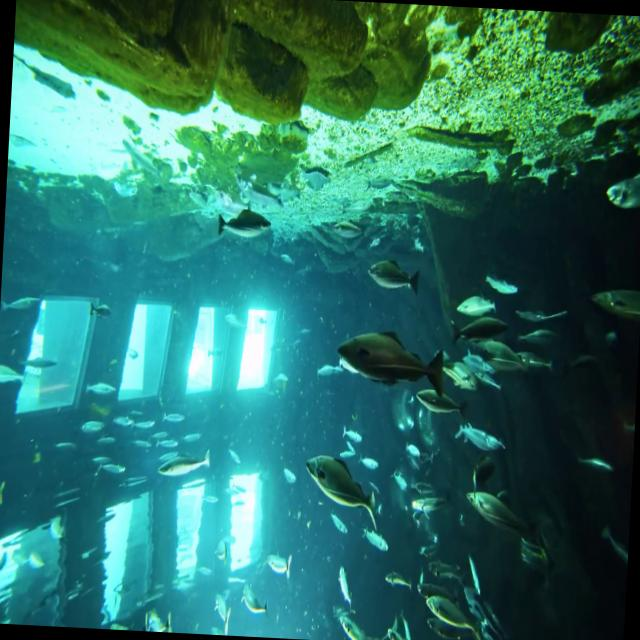fish: (329, 322, 446, 404), (297, 453, 385, 532), (458, 488, 544, 546), (151, 432, 216, 489), (213, 199, 280, 254), (360, 247, 424, 300), (450, 412, 508, 468), (467, 334, 534, 382), (587, 279, 640, 338), (594, 161, 640, 227), (426, 588, 484, 640), (511, 532, 564, 582), (232, 573, 275, 620), (329, 559, 361, 615), (359, 526, 392, 580), (261, 534, 294, 587), (80, 364, 117, 408), (207, 580, 238, 632), (0, 353, 40, 391), (104, 395, 138, 436), (380, 566, 420, 600), (74, 408, 108, 447), (482, 270, 522, 302), (451, 289, 496, 317), (338, 612, 378, 640)
